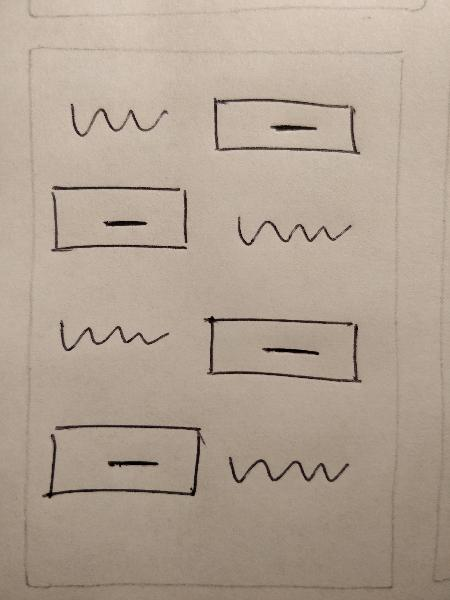button: (39, 414, 211, 502), (201, 309, 363, 386), (205, 92, 368, 164), (43, 182, 206, 254)
text: (221, 440, 351, 492), (231, 200, 356, 250), (54, 303, 172, 354), (59, 94, 170, 145)
